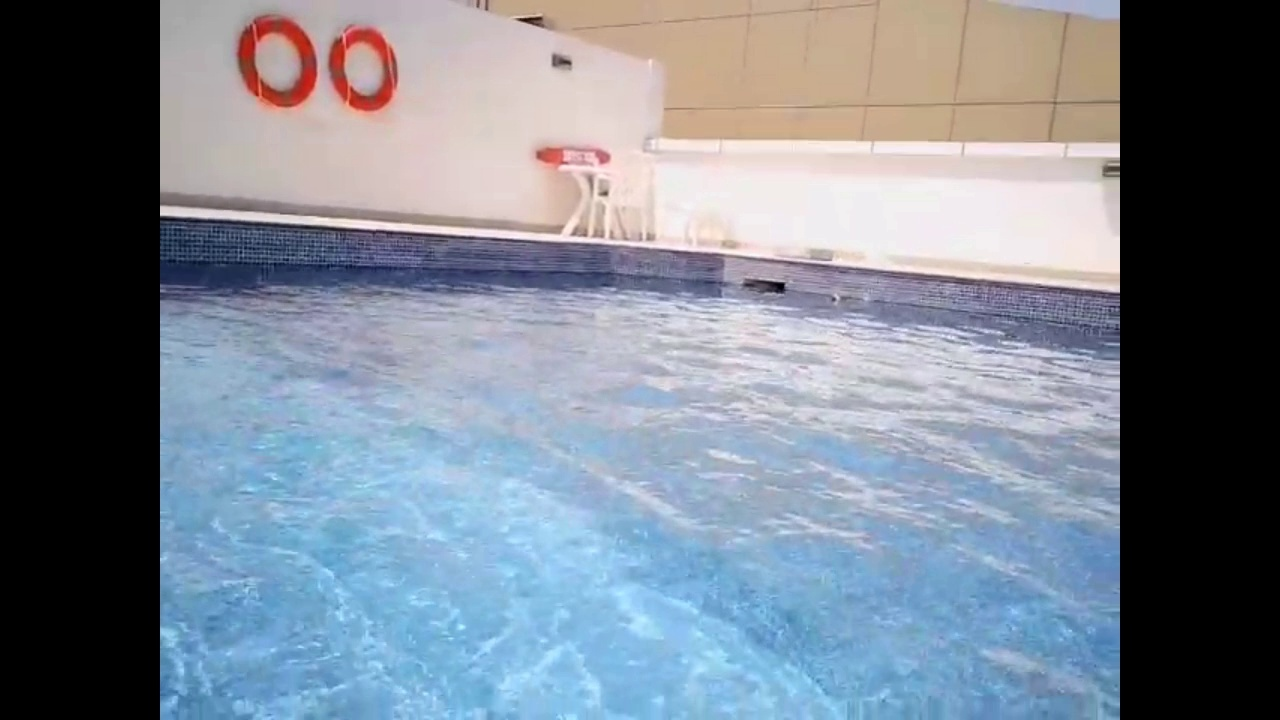debris: (822, 289, 846, 307), (858, 292, 874, 309)
